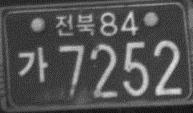2: (154, 39, 183, 97), (90, 43, 119, 100)
4: (119, 10, 139, 36)
5: (122, 40, 150, 97)
7: (57, 43, 86, 98)
8: (98, 11, 119, 37)
가: (17, 45, 49, 84)
전북_O: (55, 11, 95, 37)
